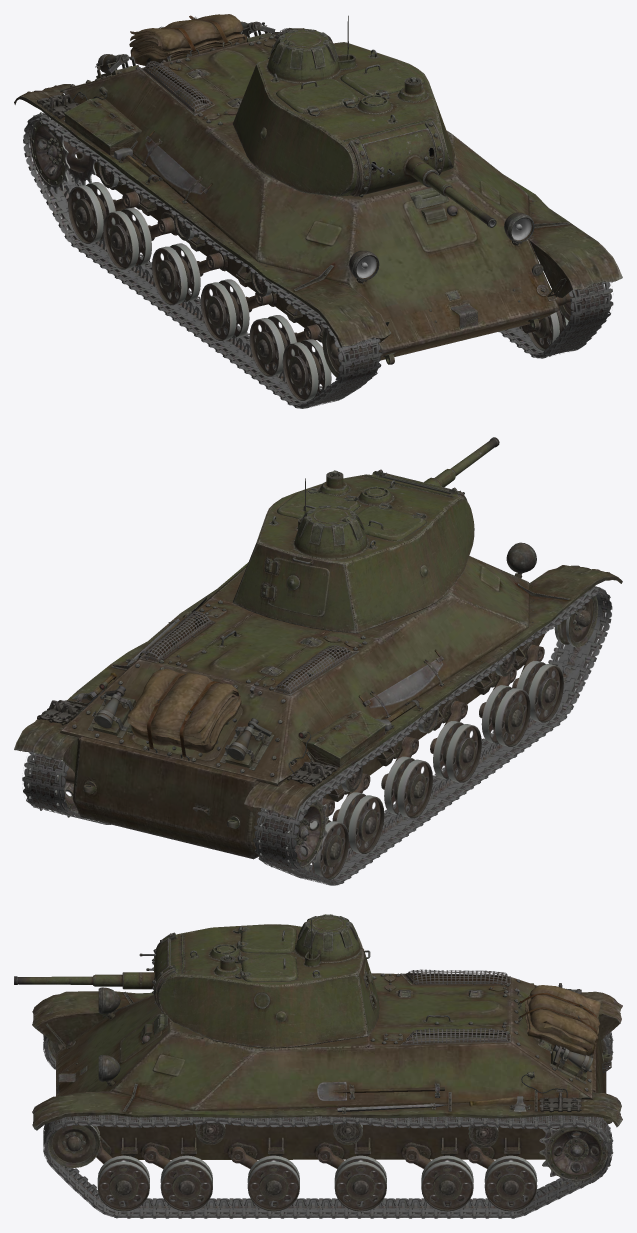
The model's file is t-50_war_thunder.glb.
3 renders of one model, top to bottom at view 1: azimuth 30°, elevation 25°; view 2: azimuth 150°, elevation 25°; view 3: azimuth 270°, elevation 25°, orthographic. The views are drawn at different scales.
Visible parts, largest first — view 1: Object_17, Object_9, Object_2, Object_15, Object_18, Object_11, Object_19, Object_12, Object_14, Object_4, Object_16, Object_7 (+1 smaller); view 2: Object_17, Object_9, Object_2, Object_18, Object_15, Object_19, Object_11, Object_16, Object_4, Object_7, Object_12; view 3: Object_17, Object_9, Object_4, Object_14, Object_11, Object_18, Object_19, Object_15, Object_7, Object_12.
Boxes of the visible parts, box(x1,y1,x2,y2) form: Object_17: box(14, 28, 622, 364); Object_9: box(233, 29, 454, 197); Object_2: box(23, 112, 382, 408); Object_15: box(68, 182, 578, 400); Object_18: box(37, 21, 543, 342); Object_11: box(35, 126, 564, 399); Object_19: box(129, 14, 543, 283); Object_12: box(362, 128, 496, 227); Object_14: box(99, 86, 568, 350); Object_4: box(498, 240, 613, 358); Object_16: box(30, 112, 346, 377); Object_7: box(144, 28, 291, 111); Object_17: box(14, 556, 622, 859); Object_9: box(233, 469, 474, 633); Object_2: box(253, 586, 612, 885); Object_18: box(37, 597, 544, 823); Object_15: box(99, 660, 563, 879); Object_19: box(127, 542, 536, 756); Object_11: box(28, 659, 560, 877); Object_16: box(258, 596, 598, 873); Object_4: box(22, 752, 110, 824); Object_7: box(145, 611, 350, 692); Object_12: box(382, 437, 499, 493); Object_17: box(32, 973, 622, 1159); Object_9: box(152, 914, 379, 1048); Object_4: box(43, 1107, 612, 1218); Object_14: box(97, 1013, 613, 1211); Object_11: box(98, 1039, 613, 1209); Object_18: box(96, 983, 593, 1171); Object_19: box(98, 985, 600, 1086); Object_15: box(47, 1071, 534, 1167); Object_7: box(406, 969, 507, 1043); Object_12: box(14, 938, 170, 989).
Size of the model in its own units: 2.49 by 2.35 by 5.19.
Materials: 13 (13 with a texture image).
